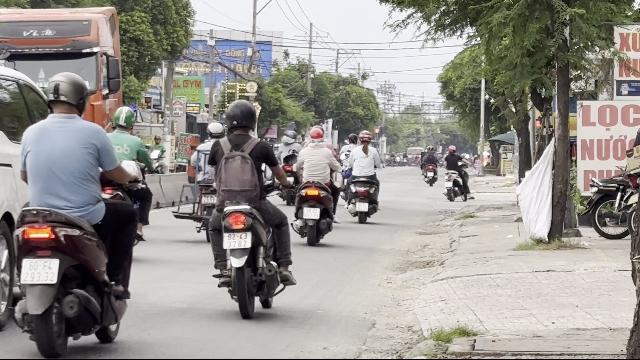helmet: (43, 71, 91, 117), (222, 99, 258, 134), (110, 106, 136, 132), (306, 126, 324, 146), (206, 120, 224, 138)
licenseplate: (20, 258, 58, 284), (223, 231, 251, 249), (302, 207, 320, 219)
motorcyclist: (1, 70, 149, 356), (202, 97, 298, 317), (102, 104, 154, 258), (290, 125, 340, 245)
